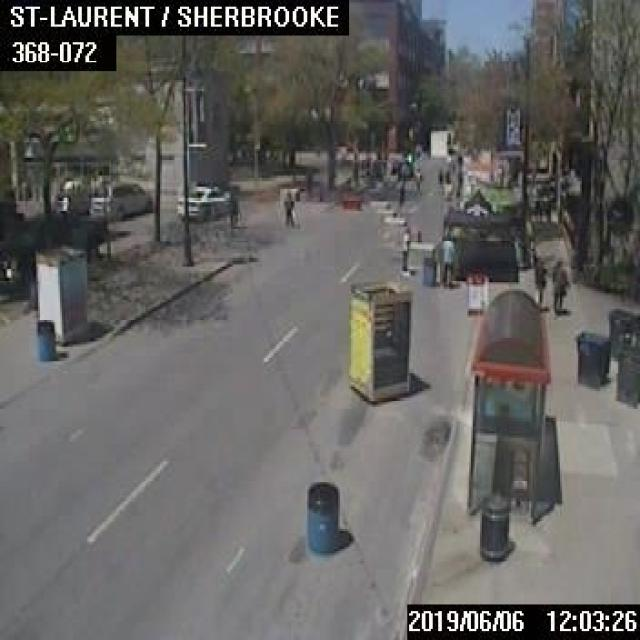pedestrian: (551, 256, 568, 313), (438, 231, 454, 287), (531, 256, 546, 307), (283, 189, 293, 225), (411, 166, 422, 193)
vehicle: (86, 179, 152, 215), (175, 184, 230, 218)
